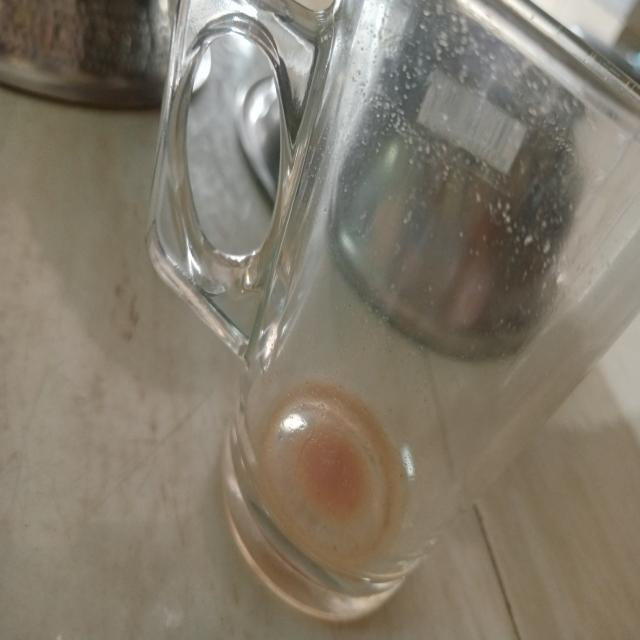glass-VX4N: (154, 0, 640, 624)
